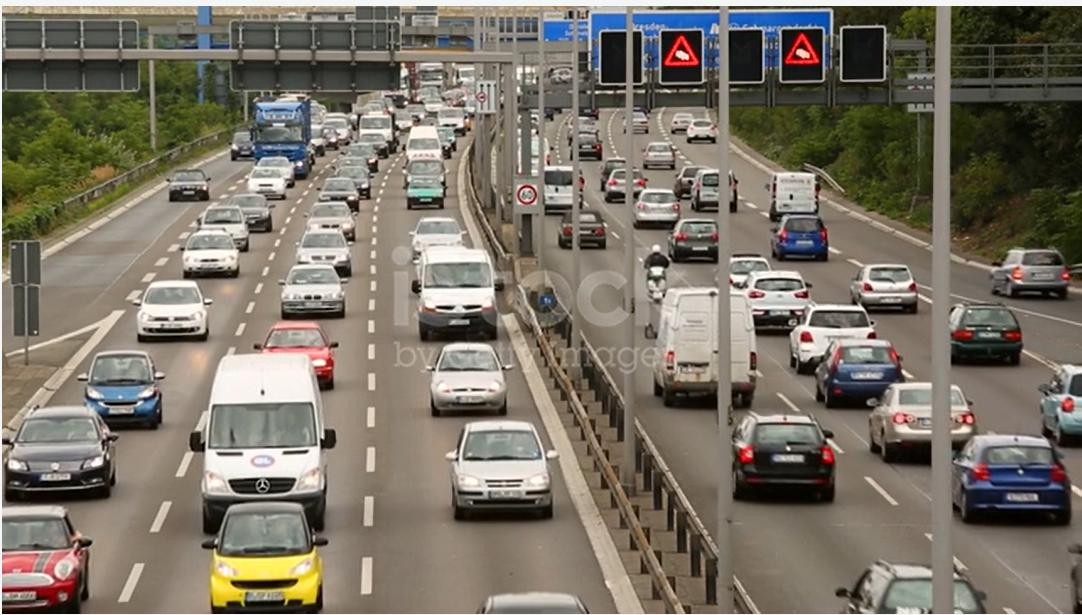car: (159, 349, 344, 527), (625, 259, 766, 440), (437, 395, 580, 562), (712, 391, 855, 517), (207, 485, 322, 615), (0, 399, 138, 504), (940, 425, 1079, 523), (865, 364, 985, 474), (0, 502, 106, 614), (789, 287, 904, 388), (405, 257, 512, 358), (983, 235, 1082, 323), (117, 268, 219, 350), (836, 249, 943, 324), (941, 285, 1021, 384), (69, 351, 166, 422), (769, 207, 849, 284), (805, 342, 901, 405), (292, 216, 357, 286), (754, 165, 827, 226), (275, 263, 353, 319), (256, 320, 342, 365), (152, 156, 219, 212), (172, 228, 246, 277), (553, 208, 621, 258), (670, 212, 724, 267), (225, 182, 281, 235), (692, 167, 739, 216), (634, 187, 680, 232), (308, 202, 360, 238)
motorcycle: (636, 245, 676, 304)
truck: (242, 96, 322, 192), (385, 155, 459, 214)
